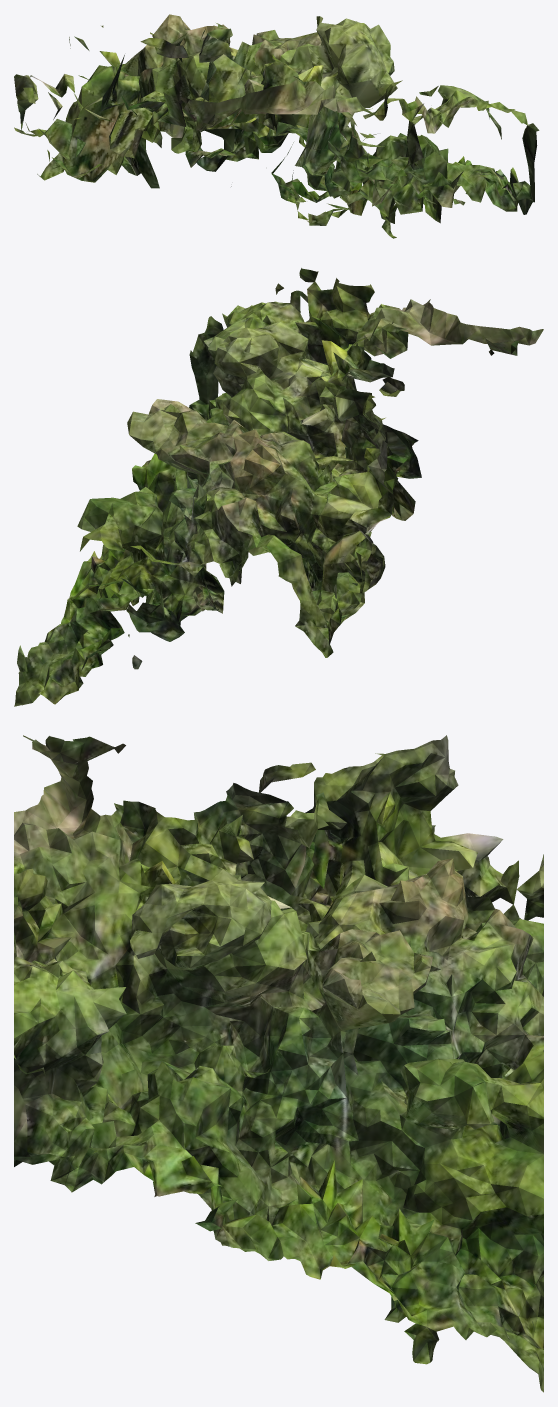
3 views of the same model, one above another, from view 1: azimuth 30°, elevation 25°; view 2: azimuth 150°, elevation 25°; view 3: azimuth 270°, elevation 25° (orthographic). The views are drawn at different scales.
Bounding box in the file's own units: 26.11 × 23.58 × 26.11.
Materials: 7 (7 with a texture image).
